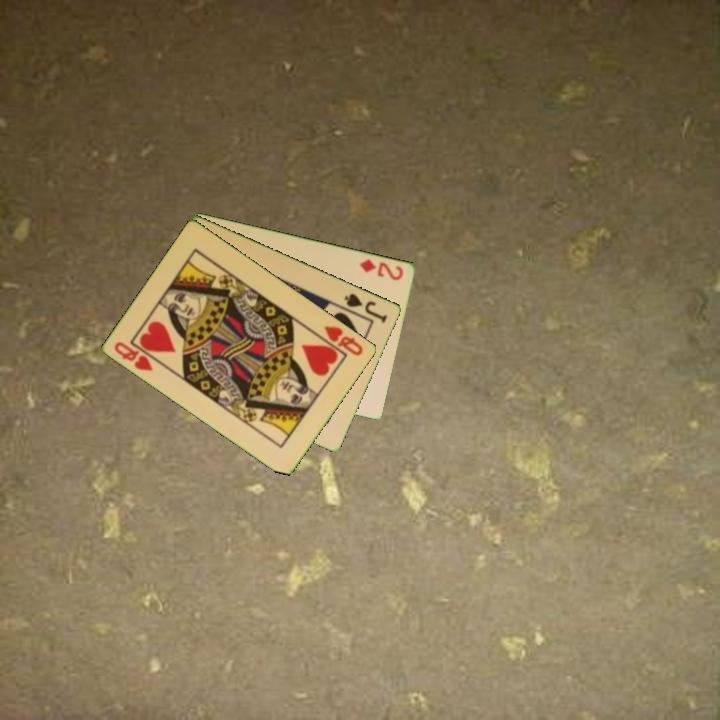2d: (356, 255, 407, 283)
Js: (341, 289, 390, 326)
Qh: (321, 322, 366, 359), (111, 338, 157, 374)
